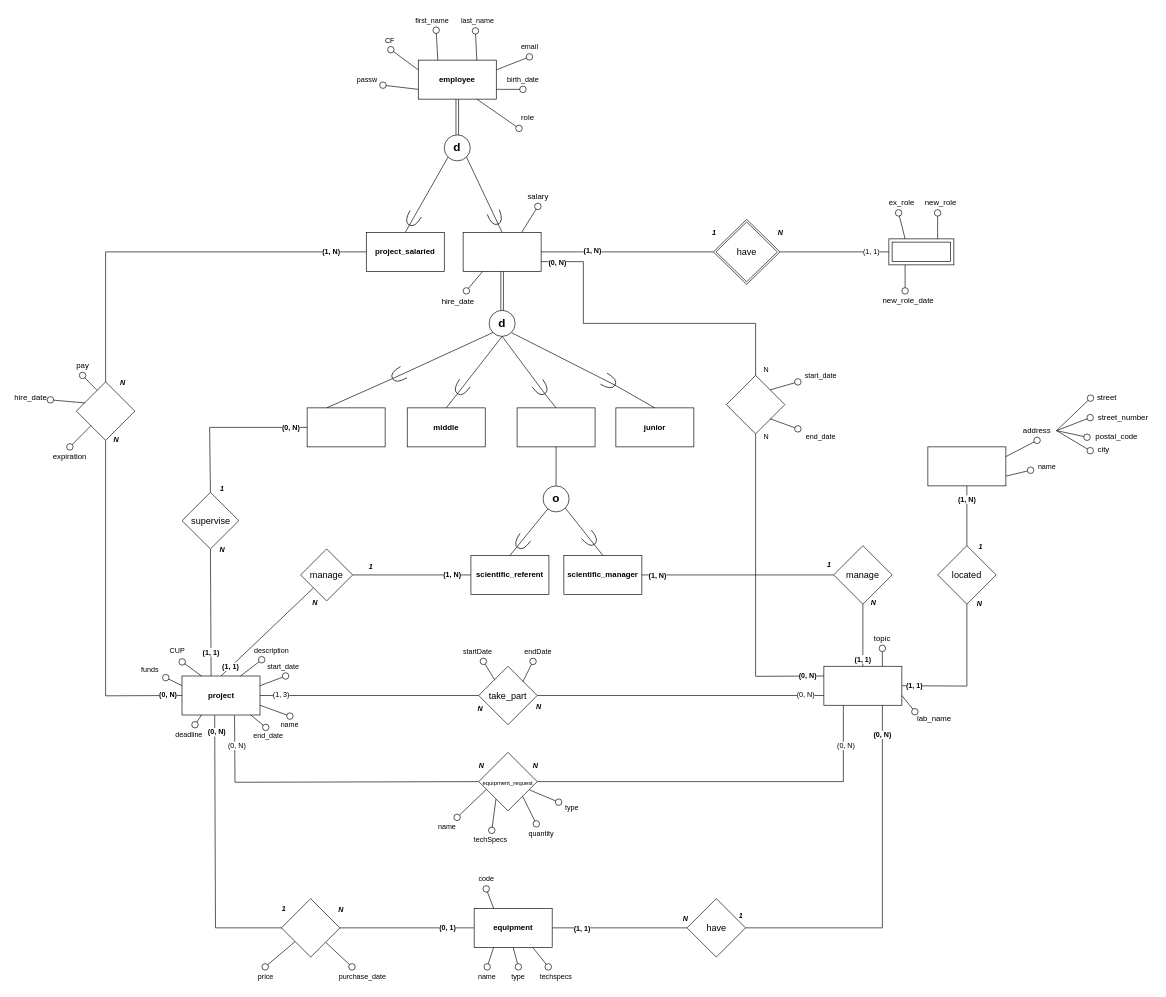
The diagram is 1166 pixels wide and 997 high, and some of its shapes have lost their labels. Each missing label, with the centre of its shape:
"base_emp" belongs at (501,251).
"career_log" belongs at (921,251).
"laboratory" belongs at (862,685).
"manager" belongs at (345,427).
"purchase" belongs at (310,927).
"senior" belongs at (555,427).
"site" belongs at (966,466).
"works_at" belongs at (755,404).
"works_on" belongs at (105,410).
